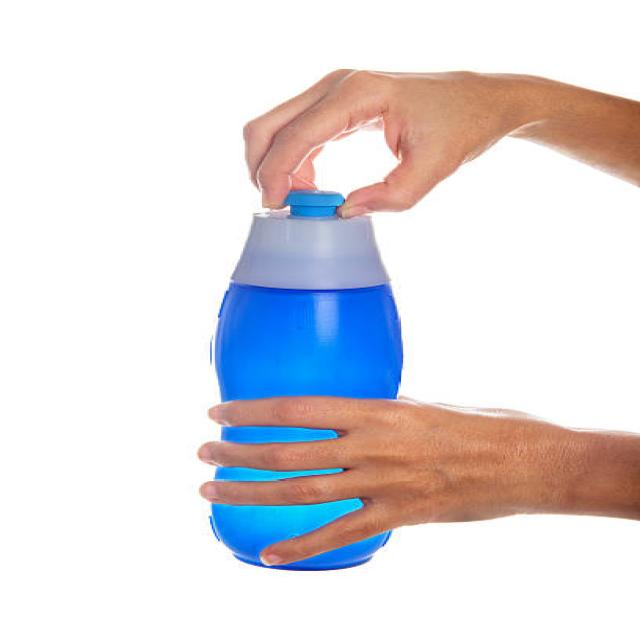blue_bottle: (197, 164, 410, 590)
